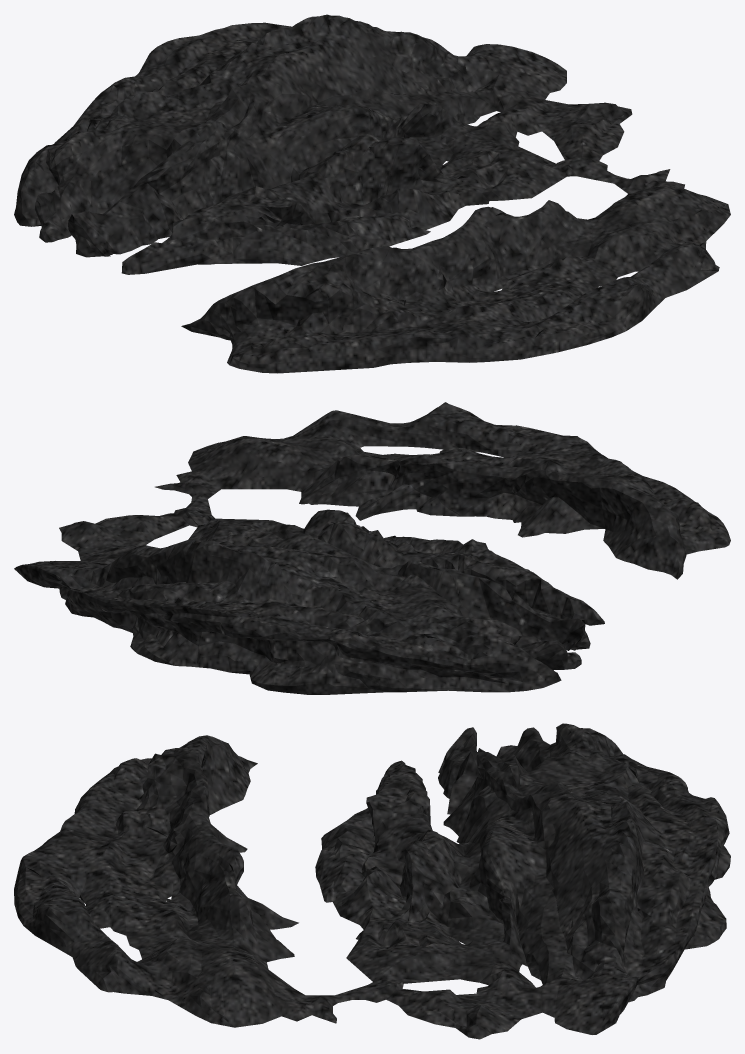
Rendered from ArtistVolcanicRock08.fbx.
3 views of the same model, one above another, from view 1: azimuth 30°, elevation 25°; view 2: azimuth 150°, elevation 25°; view 3: azimuth 270°, elevation 25° (orthographic). The views are drawn at different scales.
Visible parts, largest first — view 1: ArtistVolcanicRock08_LOD0; view 2: ArtistVolcanicRock08_LOD0; view 3: ArtistVolcanicRock08_LOD0.
Part boxes in pixels (<box>): ArtistVolcanicRock08_LOD0: <box>14,14,730,373</box>; ArtistVolcanicRock08_LOD0: <box>14,402,730,694</box>; ArtistVolcanicRock08_LOD0: <box>14,723,730,1039</box>.
Size of what is drawn, in the model's own units: 3.08 by 0.5004 by 3.28.
1 material, 1 textured.
